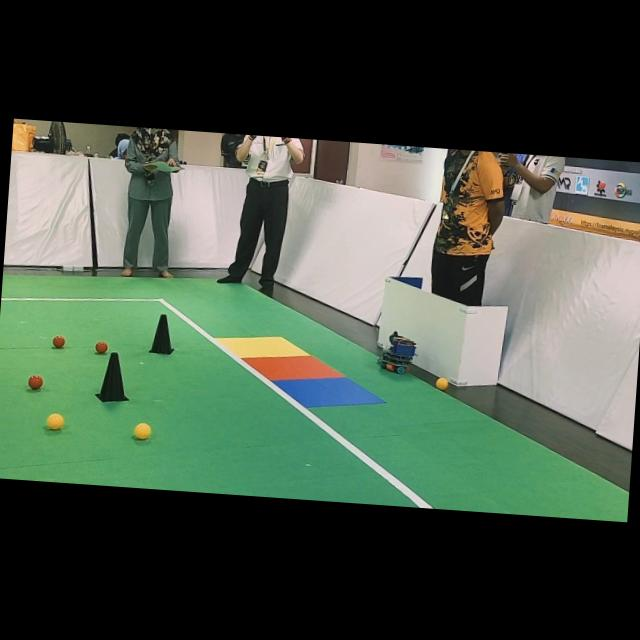ball: (46, 413, 64, 429), (134, 423, 151, 439), (27, 374, 43, 389), (52, 334, 66, 348), (95, 340, 108, 353), (436, 377, 448, 390)
goal: (273, 377, 384, 407), (243, 356, 342, 380), (216, 336, 308, 357)
